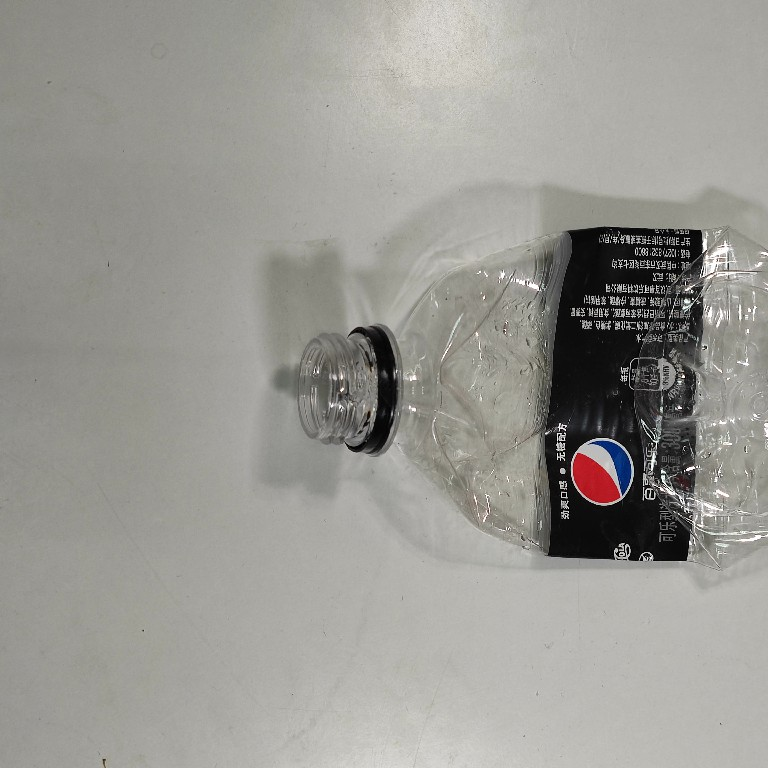bottle: (281, 203, 768, 589)
